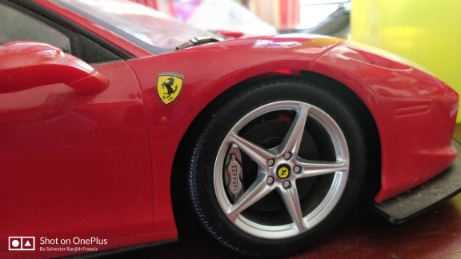aligned_wheel: (190, 78, 362, 250)
